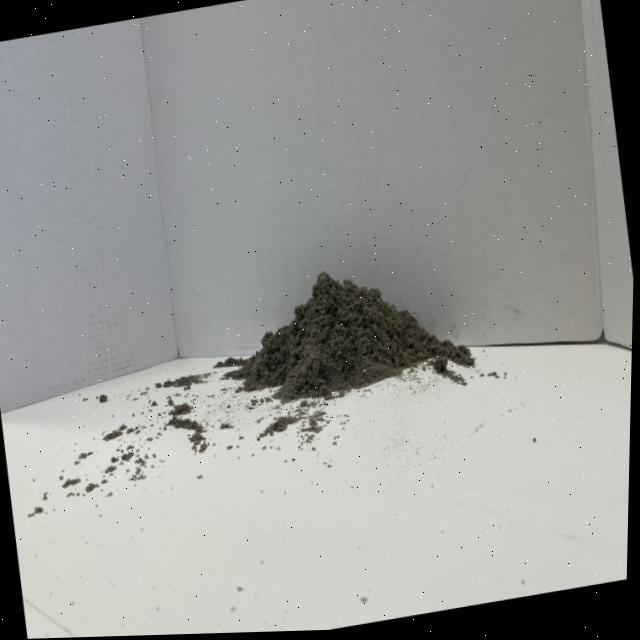sand: (232, 247, 460, 429)
